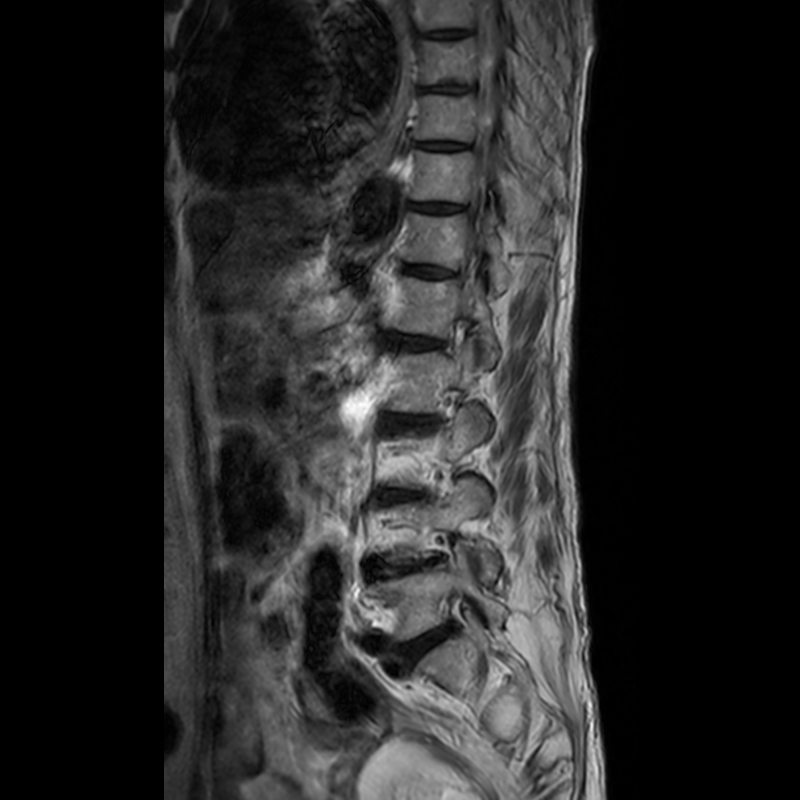LFS0: (431, 302, 477, 368)
